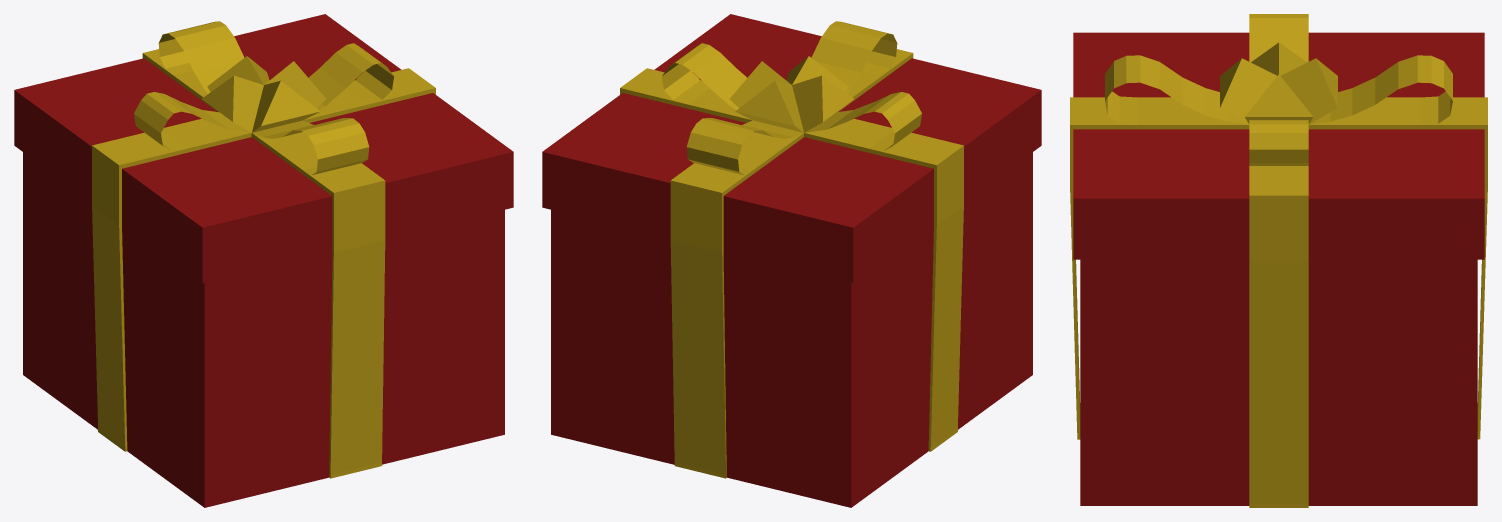
The model's file is Present_Square_Red.fbx.
3 renders of one model, left to right at view 1: azimuth 30°, elevation 25°; view 2: azimuth 150°, elevation 25°; view 3: azimuth 270°, elevation 25°, orthographic. The views are drawn at different scales.
Parts seen in each view (by area): view 1: Present; view 2: Present; view 3: Present.
Boxes of the visible parts, x1=… form: Present: x1=14, y1=14, x2=513, y2=507; Present: x1=542, y1=14, x2=1041, y2=507; Present: x1=1070, y1=14, x2=1487, y2=507.
Bounding box in the file's own units: 164 × 166 × 171.
